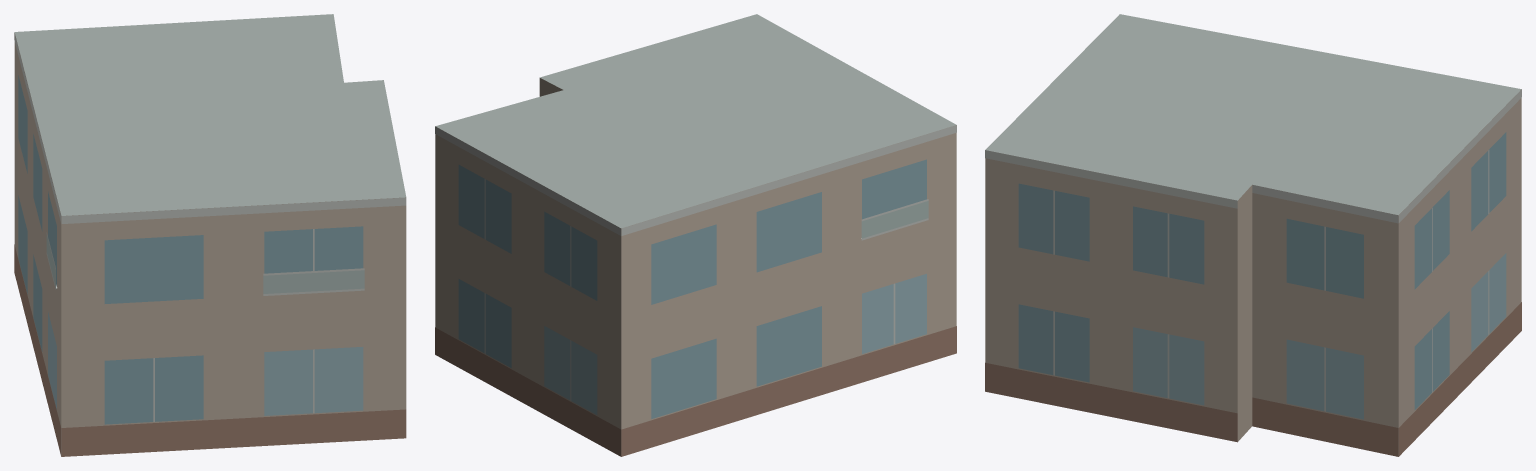
Rendered from survey-upis-32499413.glb.
3 views of the same model, side by side, from view 1: azimuth 30°, elevation 25°; view 2: azimuth 150°, elevation 25°; view 3: azimuth 270°, elevation 25° (orthographic). The views are drawn at different scales.
Visible parts, largest first — view 1: survey-upis-32499413.tmp; view 2: survey-upis-32499413.tmp; view 3: survey-upis-32499413.tmp.
Boxes of the visible parts, <box> form: survey-upis-32499413.tmp: <box>14,14,406,456</box>; survey-upis-32499413.tmp: <box>435,14,956,456</box>; survey-upis-32499413.tmp: <box>985,14,1521,456</box>.
Bounding box in the file's own units: 12.87 × 7.2 × 14.5.
